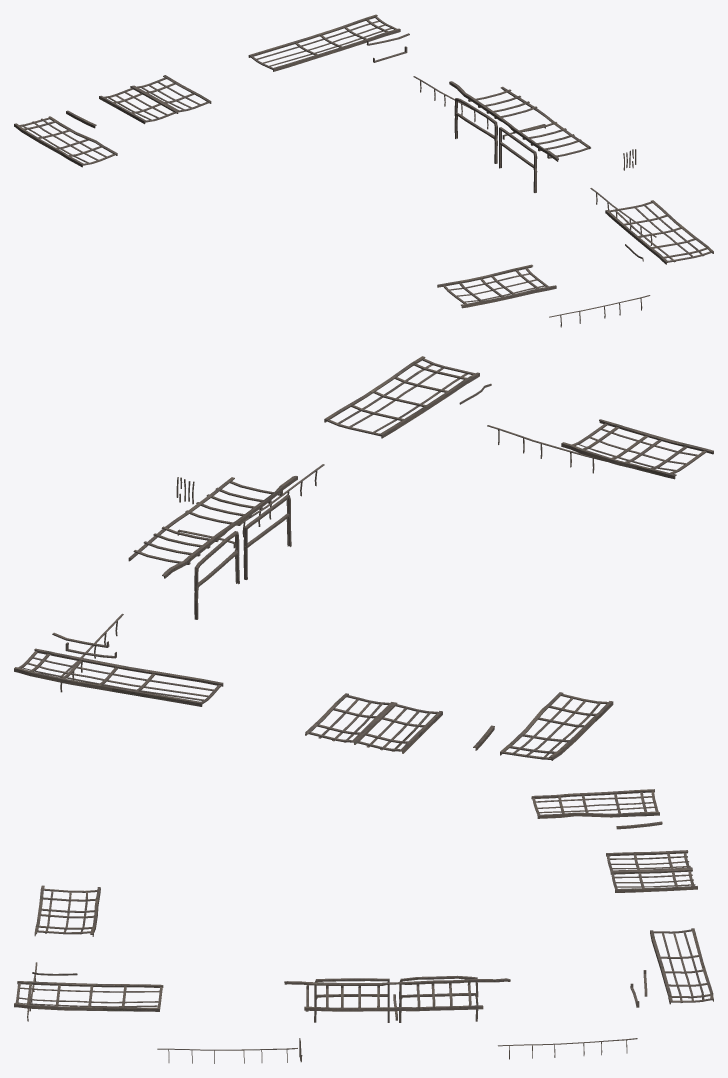
The model's file is SM_Corridor_02_02.fbx.
3 renders of one model, top to bottom at view 1: azimuth 30°, elevation 25°; view 2: azimuth 150°, elevation 25°; view 3: azimuth 270°, elevation 25°, orthographic. The views are drawn at different scales.
Visible parts, largest first — view 1: SM_Corridor_02_02; view 2: SM_Corridor_02_02; view 3: SM_Corridor_02_02.
Part boxes in pixels (bbox=[...]): SM_Corridor_02_02: bbox=[14, 14, 713, 327]; SM_Corridor_02_02: bbox=[14, 356, 713, 760]; SM_Corridor_02_02: bbox=[14, 789, 713, 1063].
Bounding box in the file's own units: 4559 × 560 × 5658.
